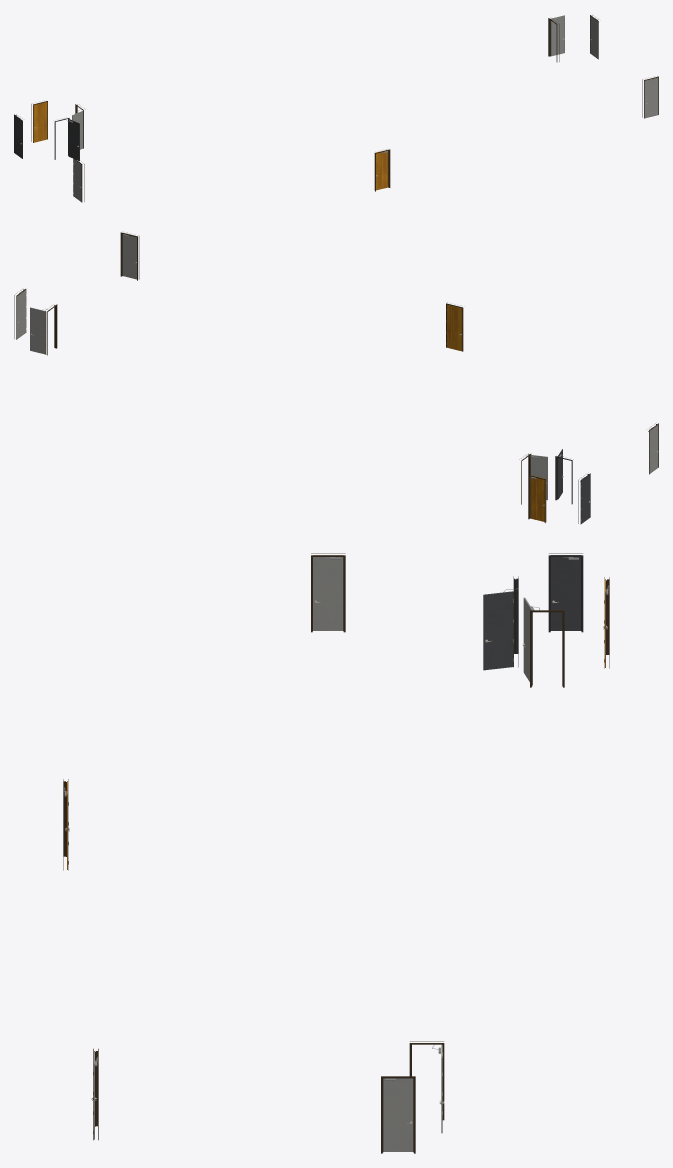
The model's file is Doors.fbx.
The picture shows the model from 3 angles, top to bottom: view 1: azimuth 30°, elevation 25°; view 2: azimuth 150°, elevation 25°; view 3: azimuth 270°, elevation 25°; orthographic projection. The views are drawn at different scales.
Visible parts, largest first — view 1: door (×8); view 2: door (×6); view 3: door (×4).
Boxes of the visible parts, bbox=[...] form: door (×8): bbox=[14, 15, 658, 201]; door (×6): bbox=[30, 232, 590, 523]; door (×4): bbox=[313, 555, 581, 1151].
Bounding box in the file's own units: 3635 × 249 × 1602.
Materials: 3 (3 with a texture image).
